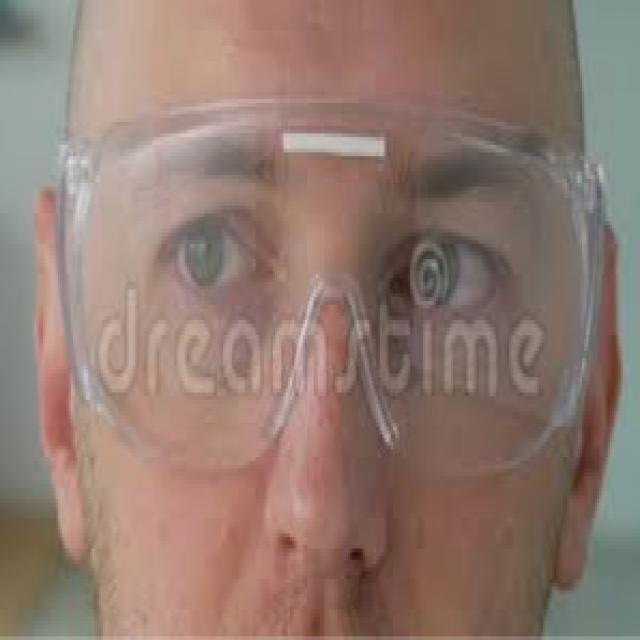glasses: (61, 80, 609, 505)
